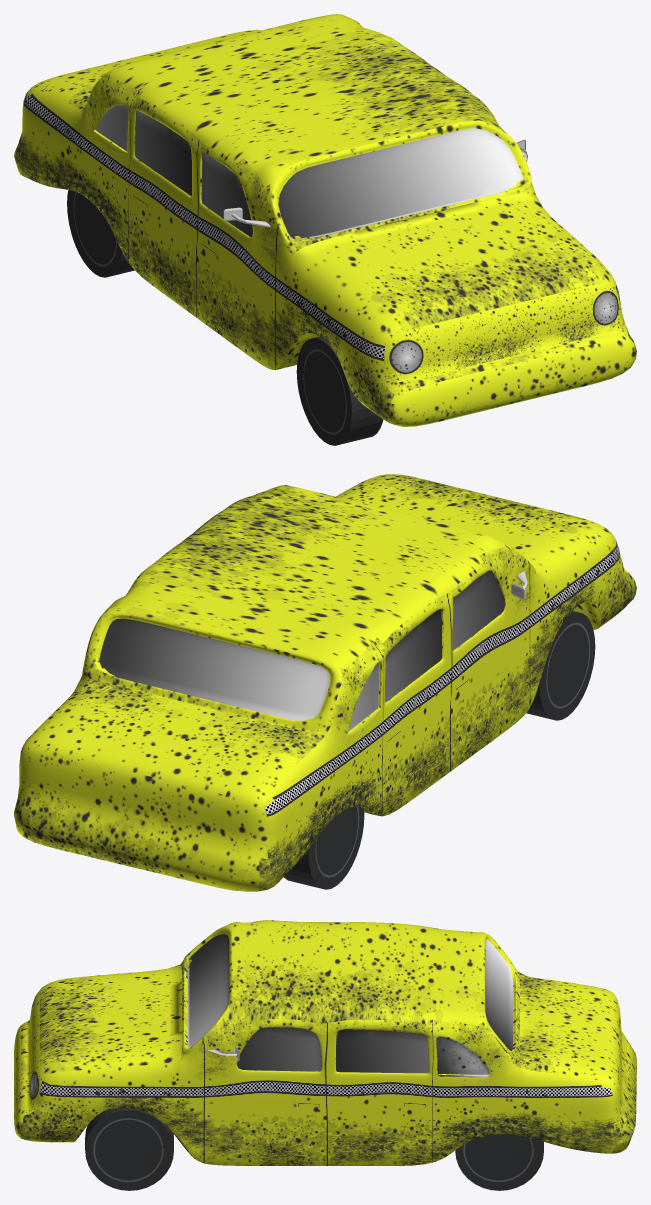
The model's file is checker-cab.glb.
3 views of the same model, one above another, from view 1: azimuth 30°, elevation 25°; view 2: azimuth 150°, elevation 25°; view 3: azimuth 270°, elevation 25° (orthographic). The views are drawn at different scales.
Visible parts, largest first — view 1: Car; view 2: Car; view 3: Car.
Boxes of the visible parts, bbox=[...] form: Car: bbox=[14, 14, 636, 445]; Car: bbox=[14, 474, 636, 891]; Car: bbox=[14, 920, 636, 1190].
Size of the model in its own units: 1.9 by 1.36 by 4.25.
Materials: 2 (2 with a texture image).
